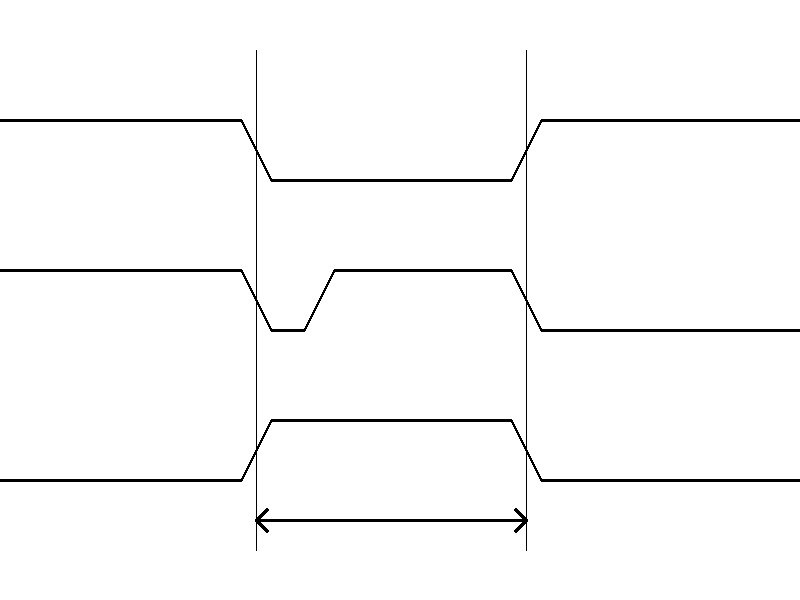double_arrow: (256, 505, 526, 535)
